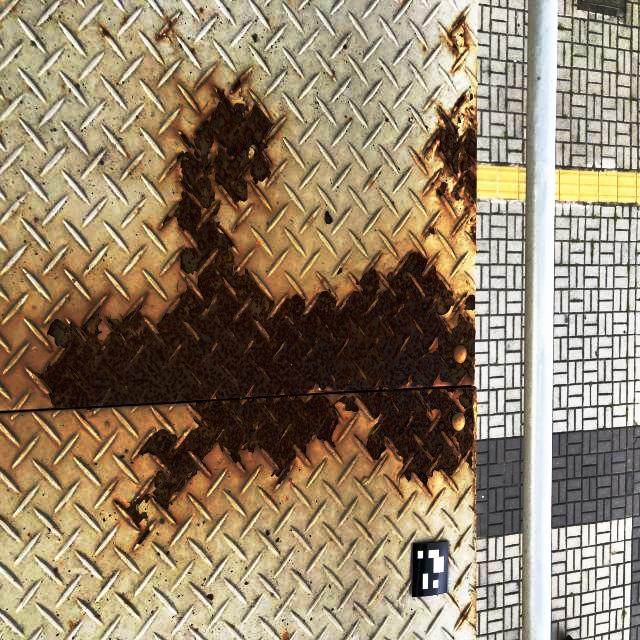Corrosion: (34, 73, 477, 545), (424, 91, 477, 246), (447, 14, 469, 71), (156, 16, 178, 43), (415, 153, 428, 174), (424, 225, 436, 241), (459, 611, 470, 627), (102, 27, 109, 37), (452, 598, 458, 606), (436, 492, 442, 499), (431, 500, 436, 508), (199, 6, 203, 12), (457, 542, 461, 547), (122, 15, 126, 20), (458, 579, 461, 585), (423, 45, 426, 50)
